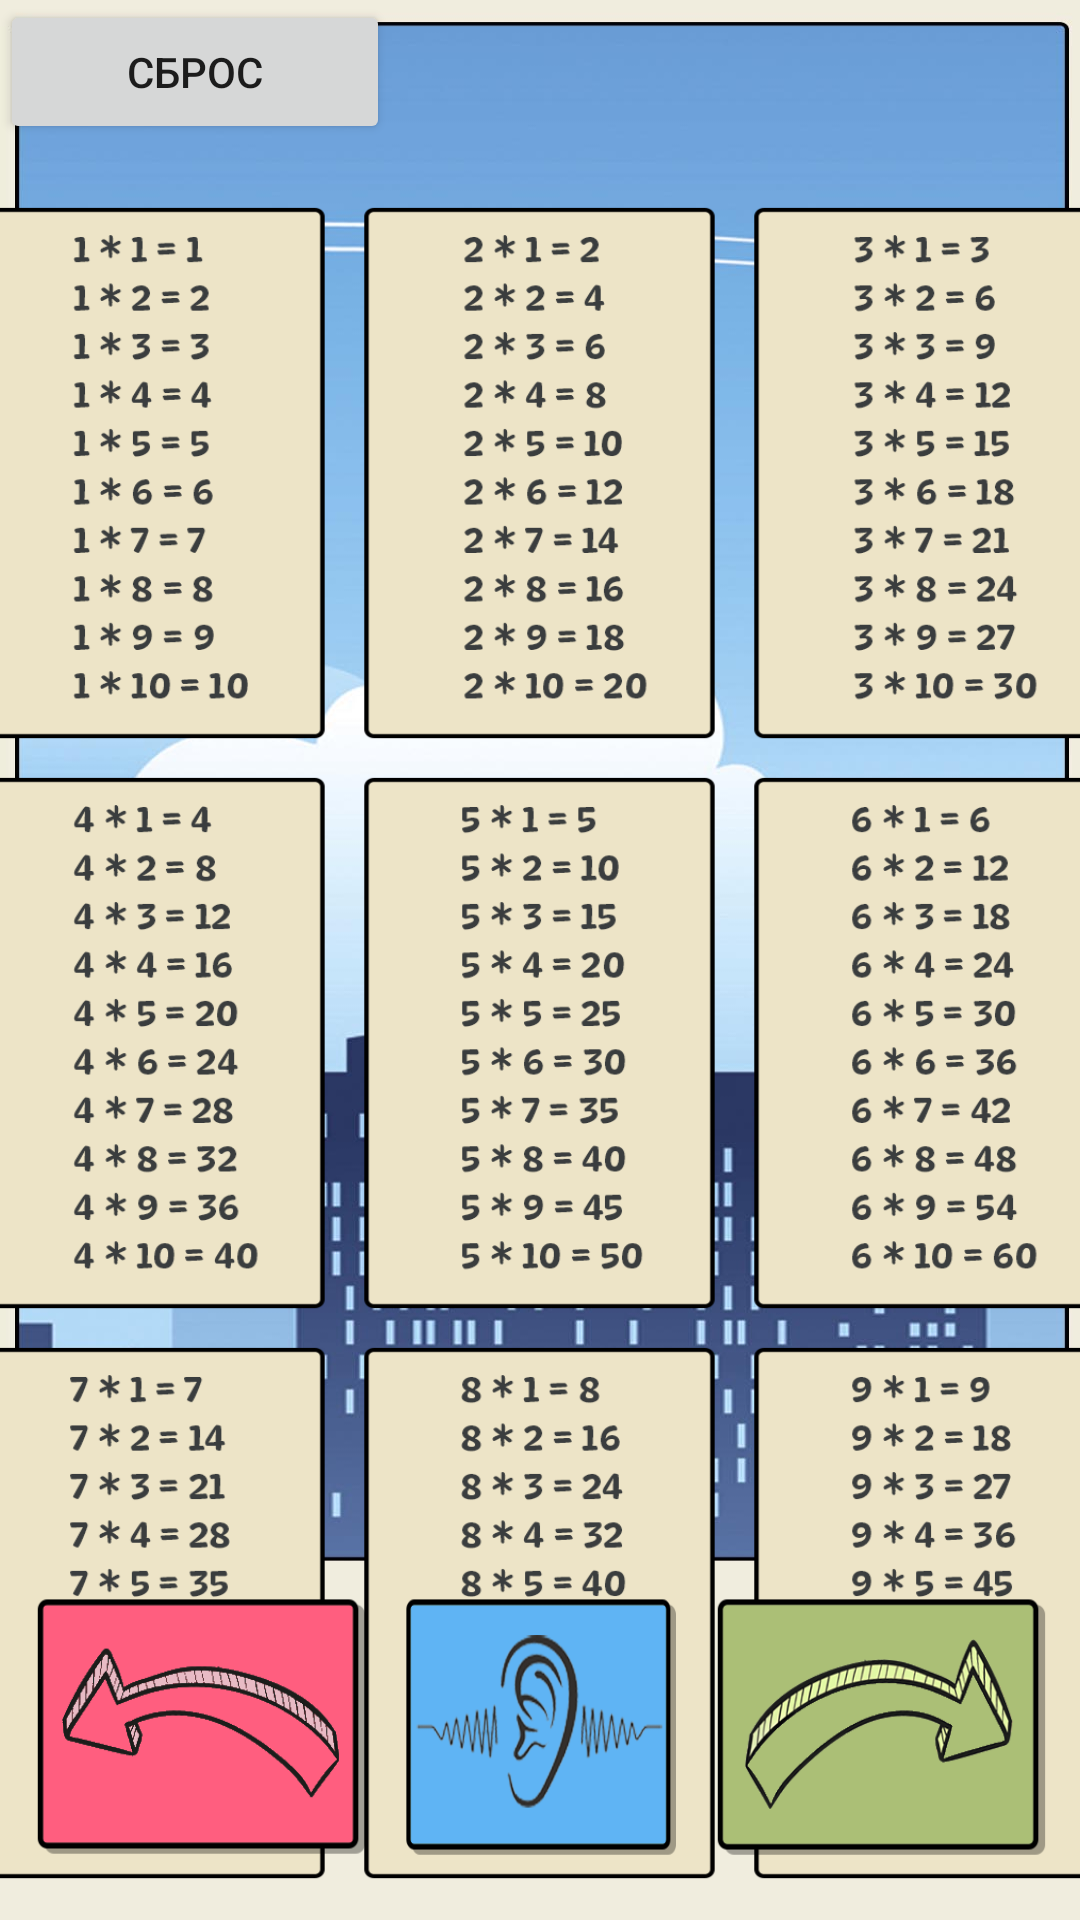

Named icons in this screenshot (1080px x 1920px) and their bounding boxes, [x1, y1, x2, y2]:
back: [37, 1590, 370, 1860]
ear: [406, 1599, 676, 1855]
forward: [710, 1590, 1045, 1860]
